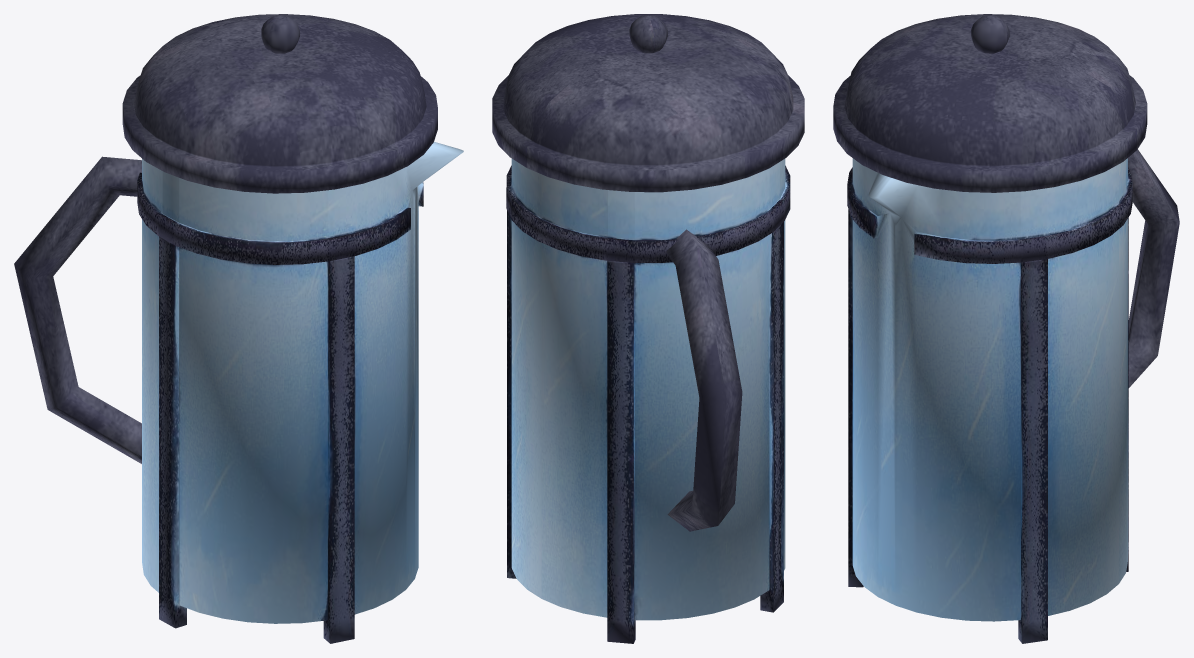
File: 02-cafetierepiston-model.glb
The picture shows the model from 3 angles, left to right: view 1: azimuth 30°, elevation 25°; view 2: azimuth 150°, elevation 25°; view 3: azimuth 270°, elevation 25°; orthographic projection.
Visible parts, largest first — view 1: 02-cafetierepiston-model; view 2: 02-cafetierepiston-model; view 3: 02-cafetierepiston-model.
Boxes of the visible parts, x1,y1,x2,y2 form: 02-cafetierepiston-model: (14, 14, 463, 643); 02-cafetierepiston-model: (492, 14, 804, 643); 02-cafetierepiston-model: (833, 14, 1179, 643).
Size of the model in its own units: 2.75 by 4.85 by 2.68.
Materials: 1 (1 with a texture image).
